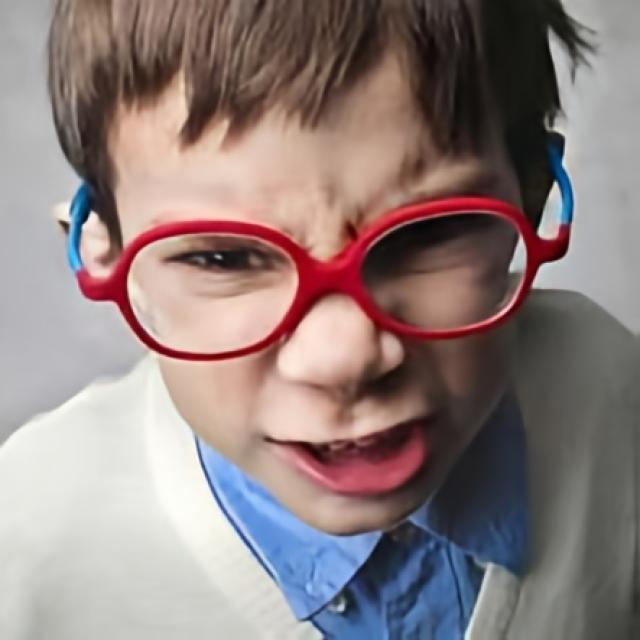anger: (122, 52, 524, 540)
